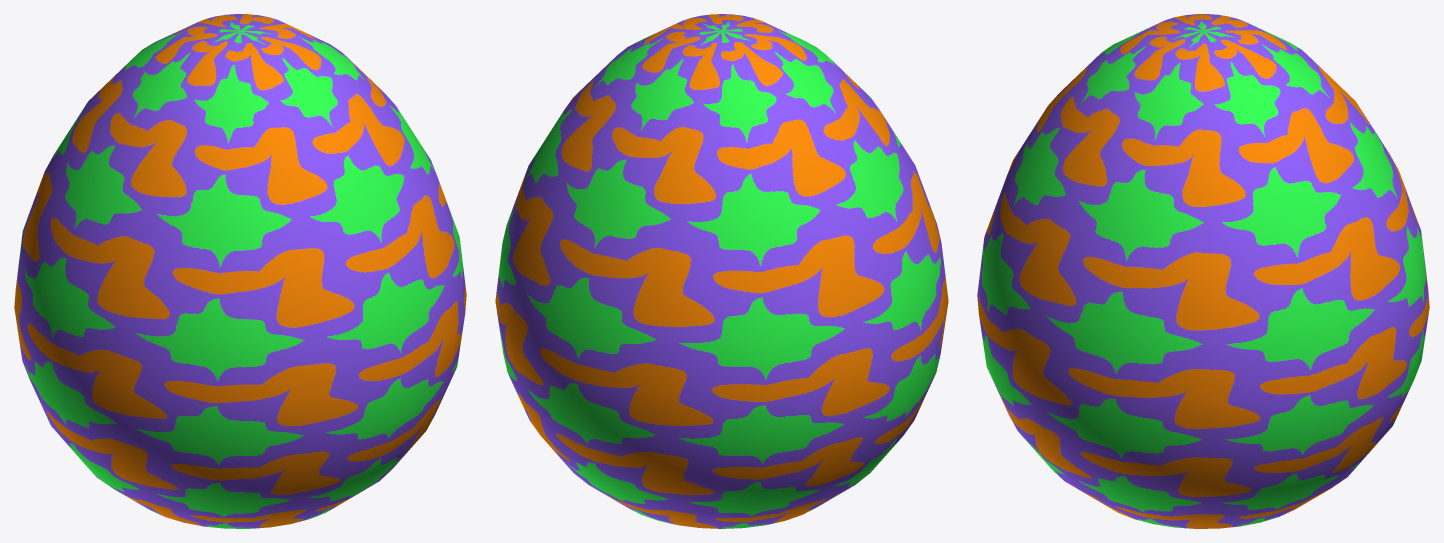
Rendered from Snogfuff.gltf.
The picture shows the model from 3 angles, left to right: view 1: azimuth 30°, elevation 25°; view 2: azimuth 150°, elevation 25°; view 3: azimuth 270°, elevation 25°; orthographic projection.
Parts seen in each view (by area): view 1: EGG; view 2: EGG; view 3: EGG.
Boxes of the visible parts, bbox=[...] form: EGG: bbox=[14, 14, 466, 528]; EGG: bbox=[495, 14, 948, 528]; EGG: bbox=[977, 14, 1429, 528].
Size of the model in its own units: 1.41 by 1.64 by 1.41.
Materials: 1 (1 with a texture image).
